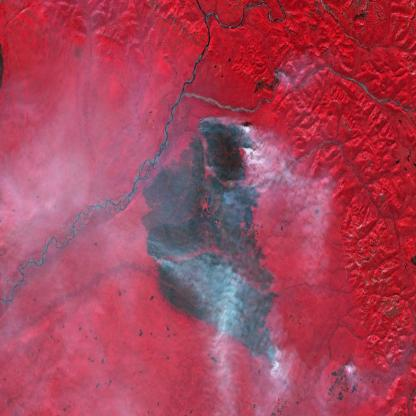fire: (236, 322, 293, 397), (197, 105, 262, 162), (143, 222, 175, 282), (336, 356, 361, 385)
